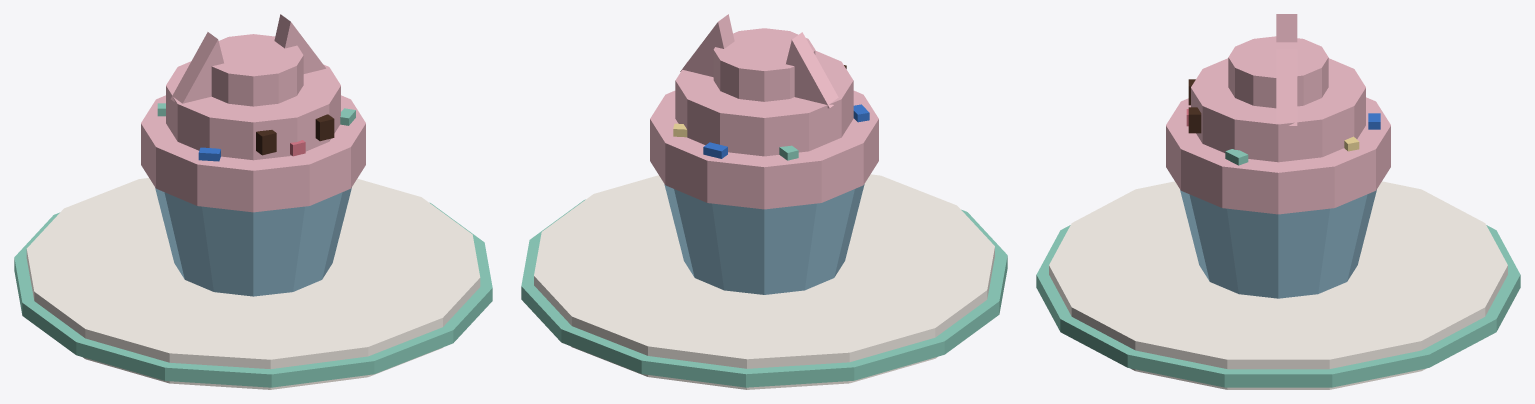
File: CatCafe_Menu_KittyCupcake.glb
3 views of the same model, side by side, from view 1: azimuth 30°, elevation 25°; view 2: azimuth 150°, elevation 25°; view 3: azimuth 270°, elevation 25° (orthographic).
Visible parts, largest first — view 1: CatCafe_Menu_KittyCupcake_Plate, CatCafe_Menu_KittyCupcake; view 2: CatCafe_Menu_KittyCupcake_Plate, CatCafe_Menu_KittyCupcake; view 3: CatCafe_Menu_KittyCupcake_Plate, CatCafe_Menu_KittyCupcake.
Boxes of the visible parts, box(x1,y1,x2,y2) form: CatCafe_Menu_KittyCupcake_Plate: box(14, 178, 492, 389); CatCafe_Menu_KittyCupcake: box(141, 14, 365, 296); CatCafe_Menu_KittyCupcake_Plate: box(521, 174, 1007, 389); CatCafe_Menu_KittyCupcake: box(650, 14, 878, 294); CatCafe_Menu_KittyCupcake_Plate: box(1036, 181, 1520, 389); CatCafe_Menu_KittyCupcake: box(1166, 14, 1390, 298).
Size of the model in its own units: 1.13 by 0.7374 by 1.16.
1 material, 1 textured.
